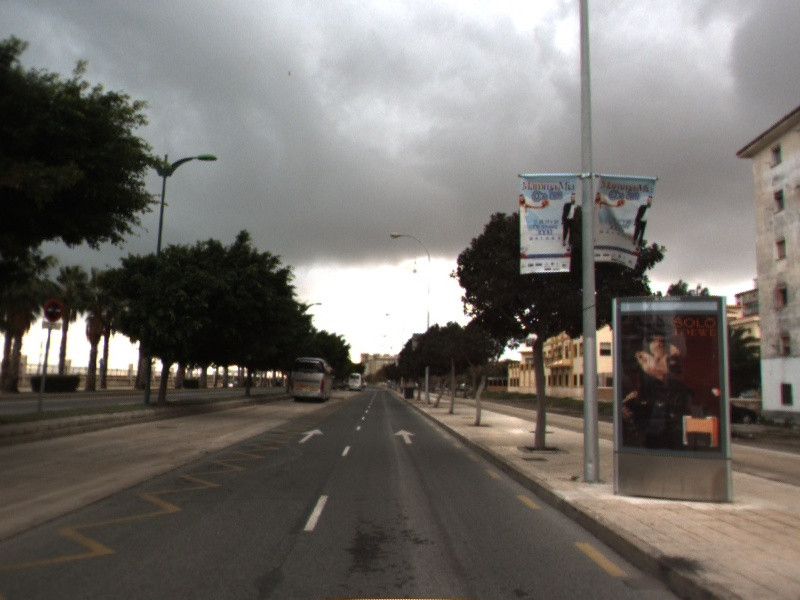STRAIGHT: (296, 427, 325, 445), (391, 428, 419, 445)
